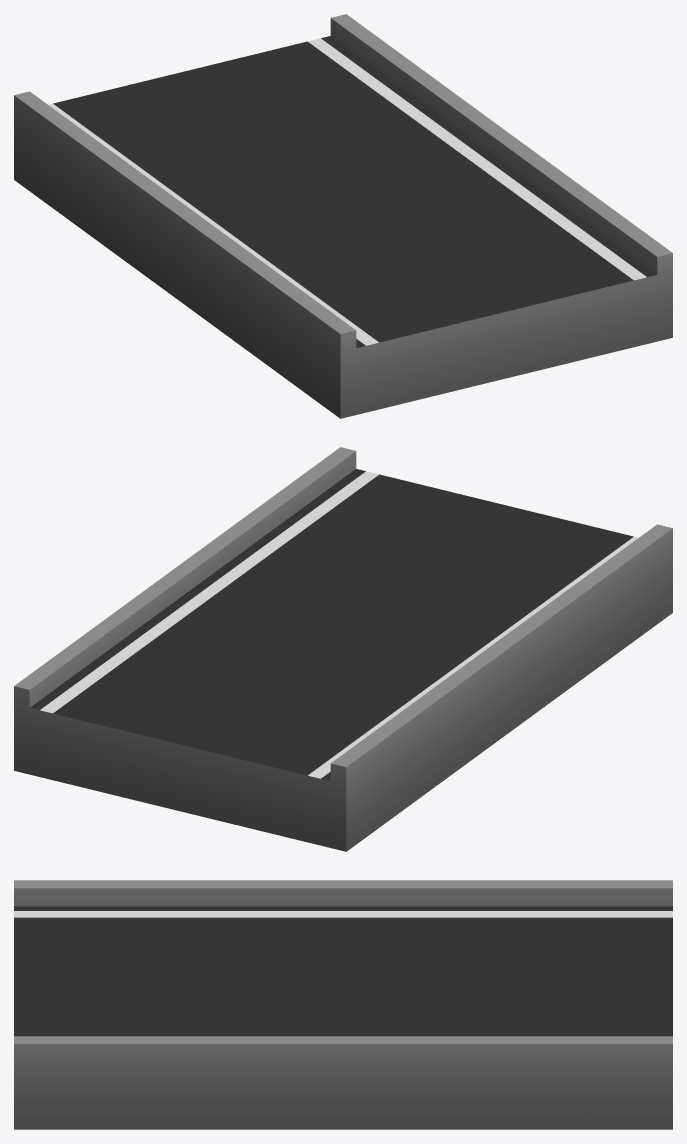
File: Straight_Road.fbx
3 views of the same model, one above another, from view 1: azimuth 30°, elevation 25°; view 2: azimuth 150°, elevation 25°; view 3: azimuth 270°, elevation 25° (orthographic).
Visible parts, largest first — view 1: Straight_Road; view 2: Straight_Road; view 3: Straight_Road.
Boxes of the visible parts, x1,y1,x2,y2 form: Straight_Road: (14, 14, 672, 418); Straight_Road: (14, 447, 672, 851); Straight_Road: (14, 880, 672, 1129).
Bounding box in the file's own units: 199 × 48.52 × 339.
